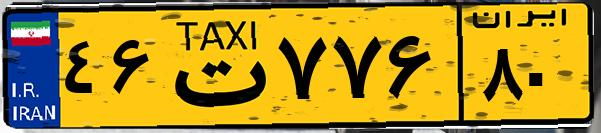0: (525, 38, 570, 115)
4: (57, 26, 110, 100)
6: (385, 28, 445, 110), (110, 28, 158, 98)
7: (270, 28, 330, 110), (330, 28, 385, 110)
8: (475, 38, 525, 113)
ت: (158, 12, 270, 120)
